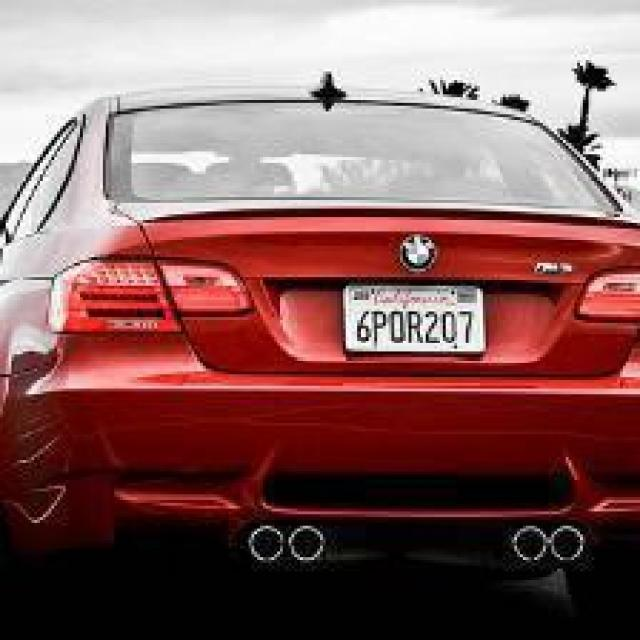damaged: (6, 332, 83, 532)
